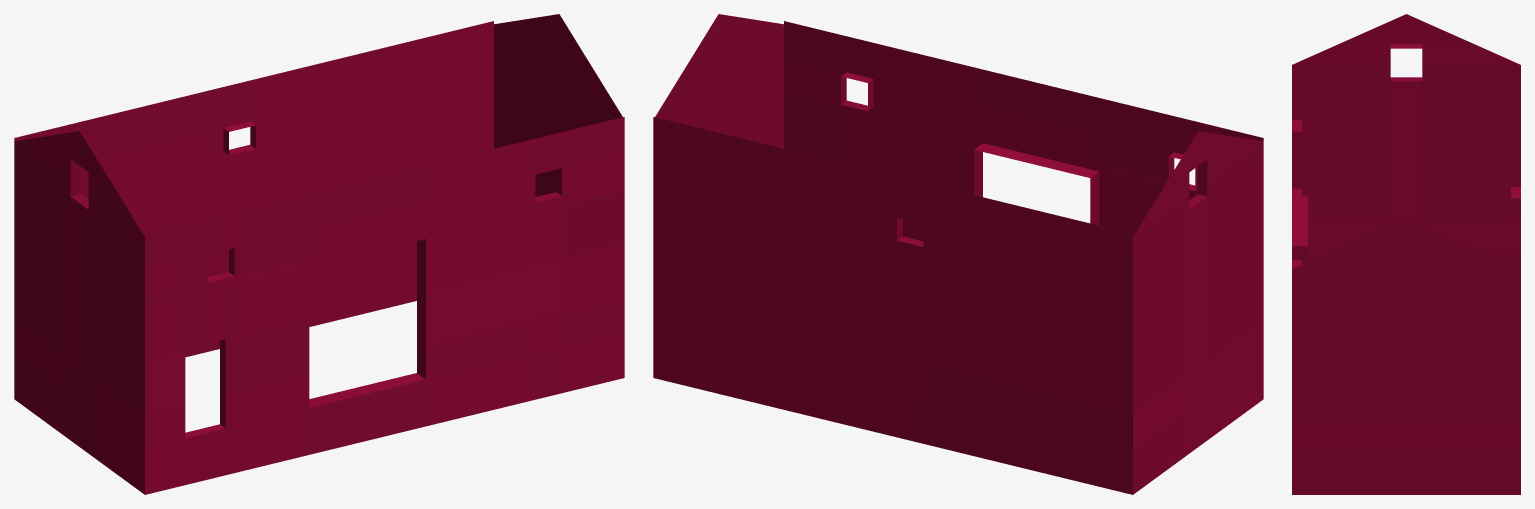
File: SM_Bld_154_Masonry.glb
3 views of the same model, side by side, from view 1: azimuth 30°, elevation 25°; view 2: azimuth 150°, elevation 25°; view 3: azimuth 270°, elevation 25° (orthographic). The views are drawn at different scales.
Parts seen in each view (by area): view 1: SM_Bld_154_Masonry; view 2: SM_Bld_154_Masonry; view 3: SM_Bld_154_Masonry.
Boxes of the visible parts, x1,y1,x2,y2 form: SM_Bld_154_Masonry: (14,14,624,494); SM_Bld_154_Masonry: (653,14,1263,494); SM_Bld_154_Masonry: (1292,14,1520,494).
Size of the model in its own units: 10.71 by 6.74 by 5.06.
